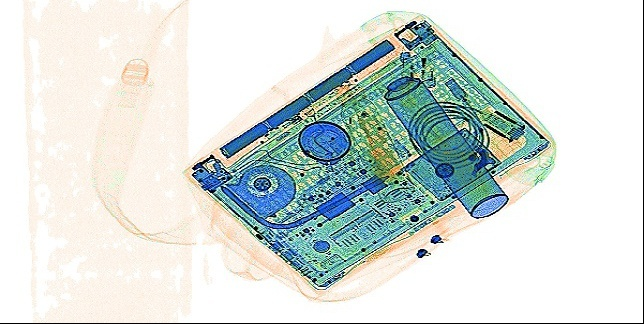lighter: (396, 47, 417, 107), (416, 28, 437, 88)
pressure: (366, 49, 510, 220), (333, 79, 416, 203)
